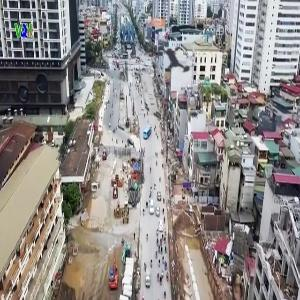drone: (140, 23, 209, 92)
